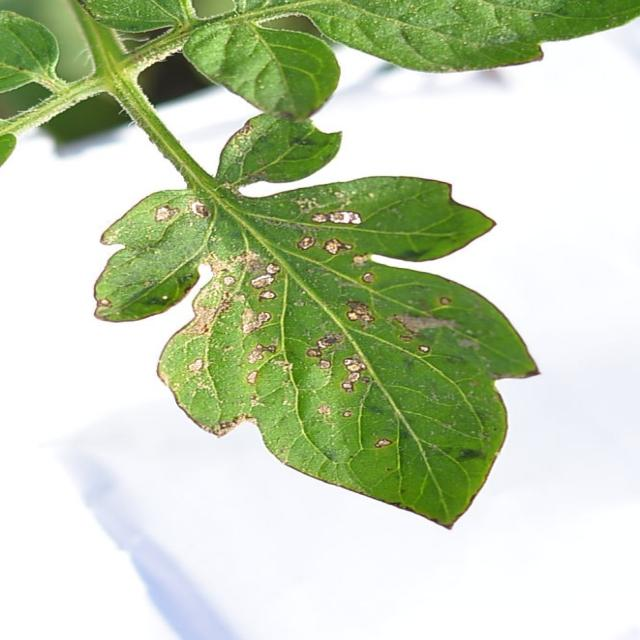infected: (90, 191, 555, 530)
